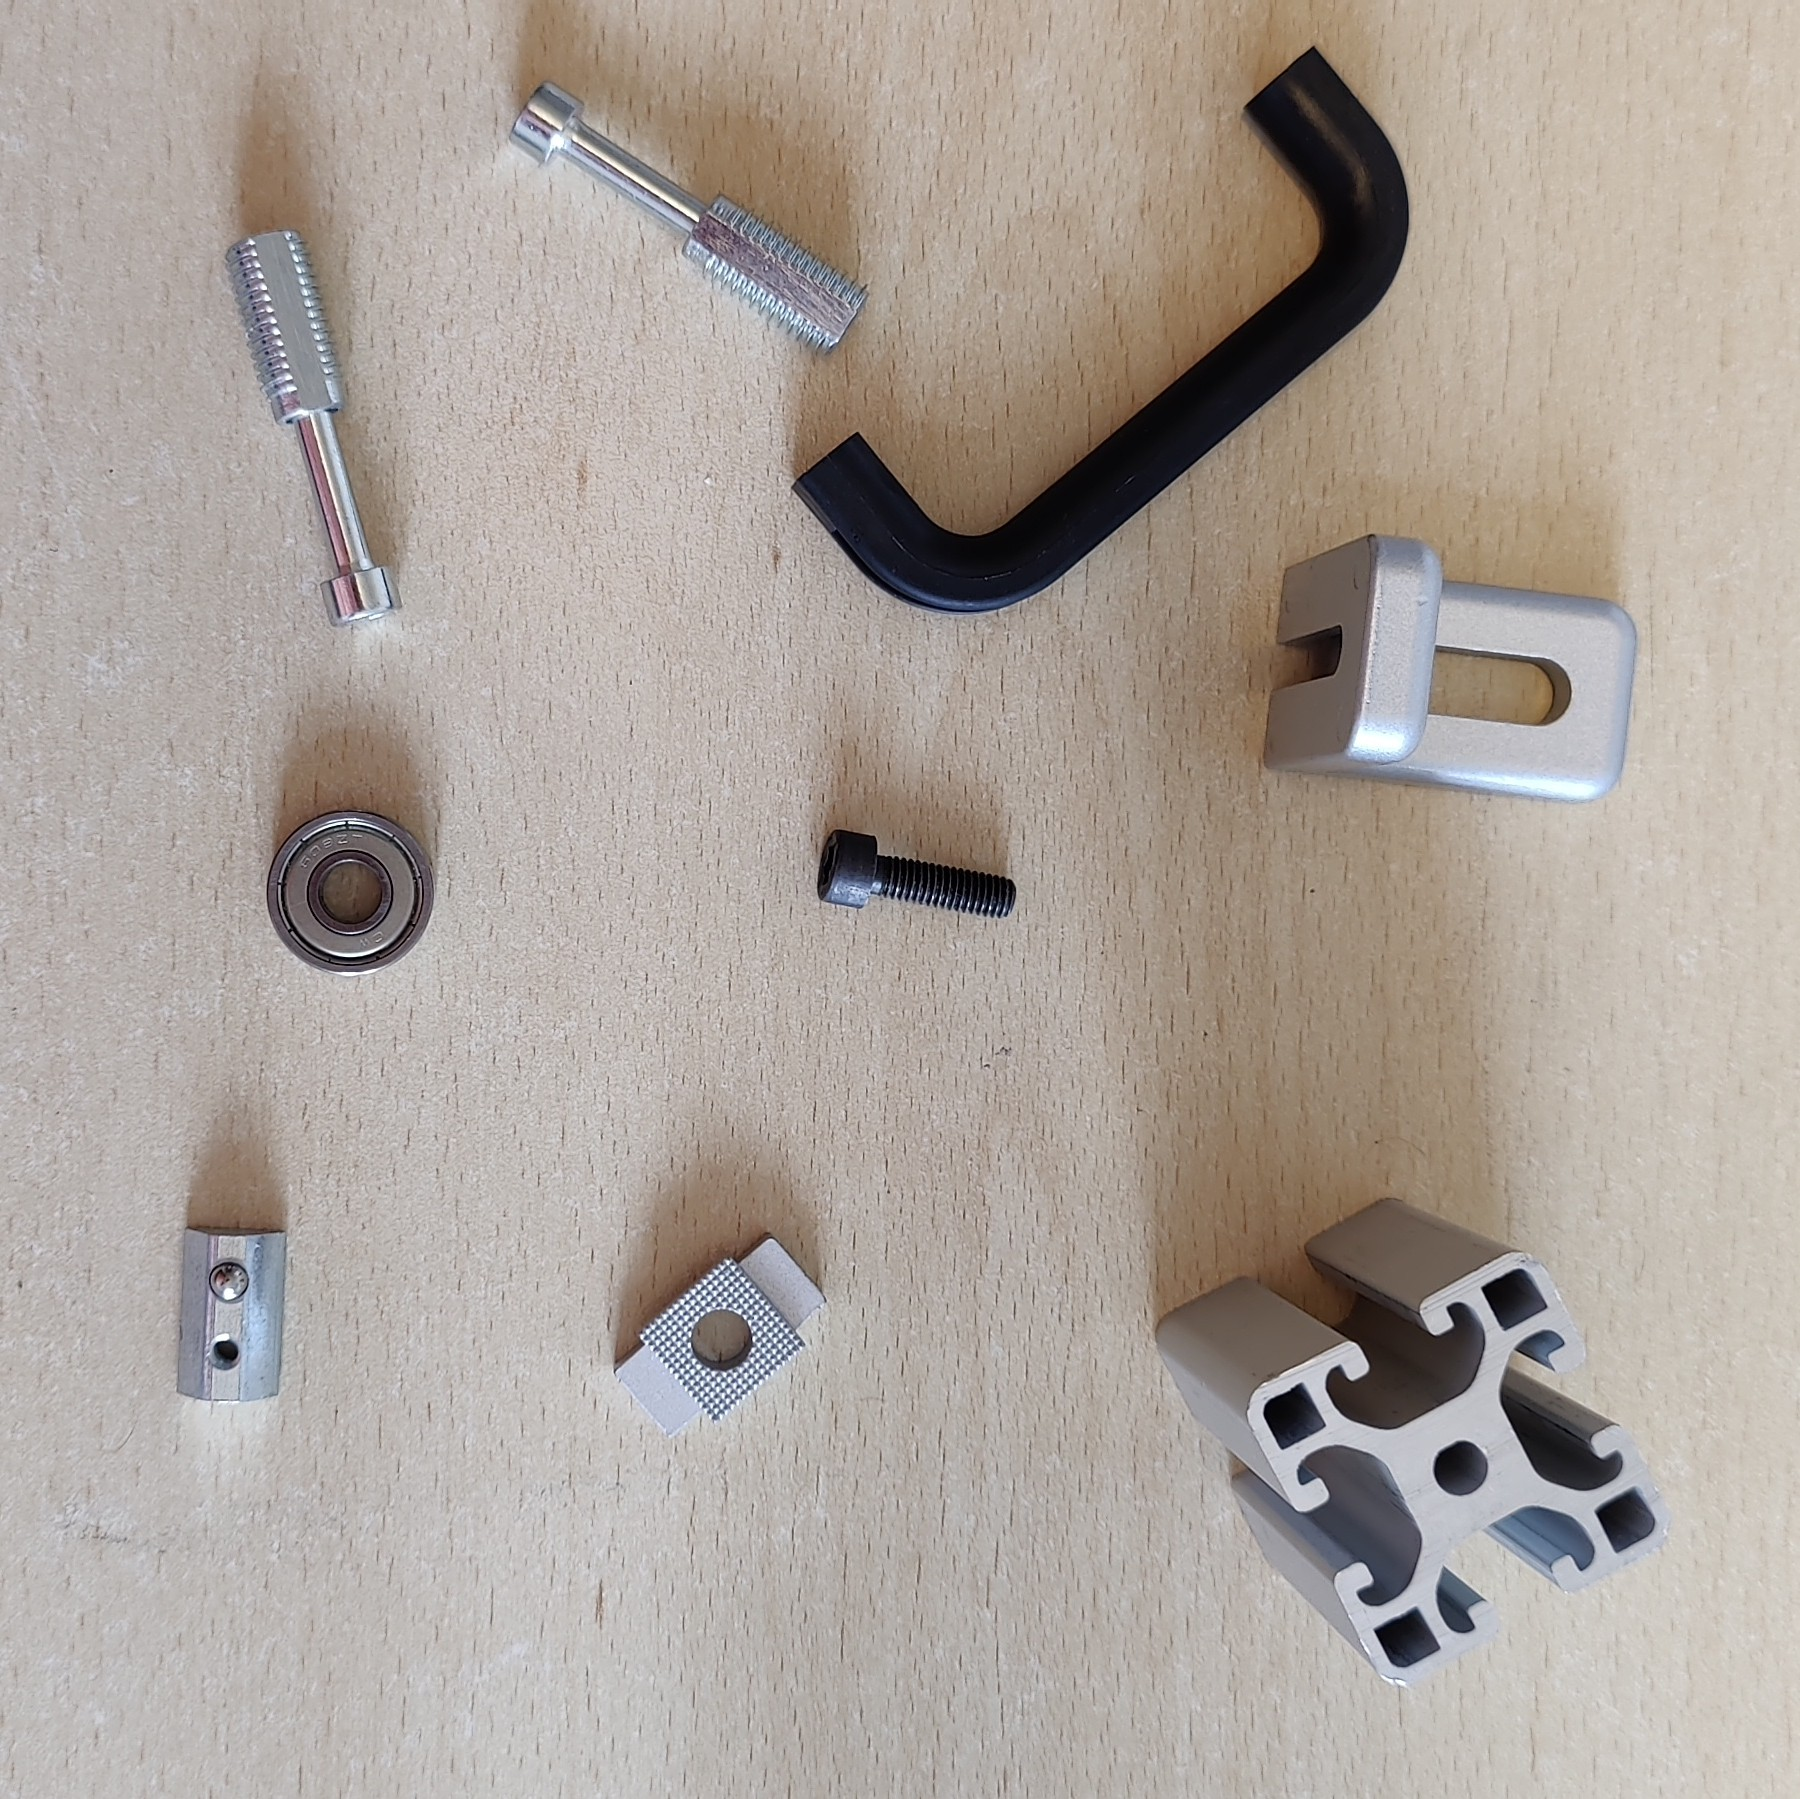Aluminium Extension: (1149, 1193, 1672, 1687)
Ball Bearing: (262, 802, 438, 980)
Multiwinkel: (1258, 529, 1640, 807)
Pull Handle: (789, 41, 1416, 618)
Shoulder Socket Head Cap Screw: (506, 77, 878, 366), (221, 222, 405, 631)
Socket Head Cap Screw: (814, 822, 1019, 923)
T Nut Square: (613, 1227, 832, 1440)
T Spring Nut: (173, 1217, 293, 1405)
